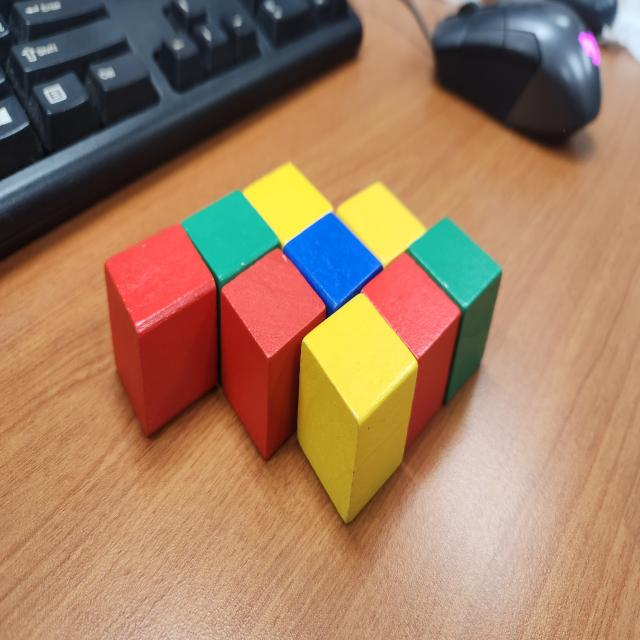blue: (282, 212, 383, 328)
green: (180, 187, 280, 384), (405, 214, 502, 410)
red: (101, 222, 218, 434), (220, 245, 326, 463), (359, 249, 462, 456)
yellow: (295, 292, 419, 526), (240, 141, 334, 257), (334, 178, 428, 268)
